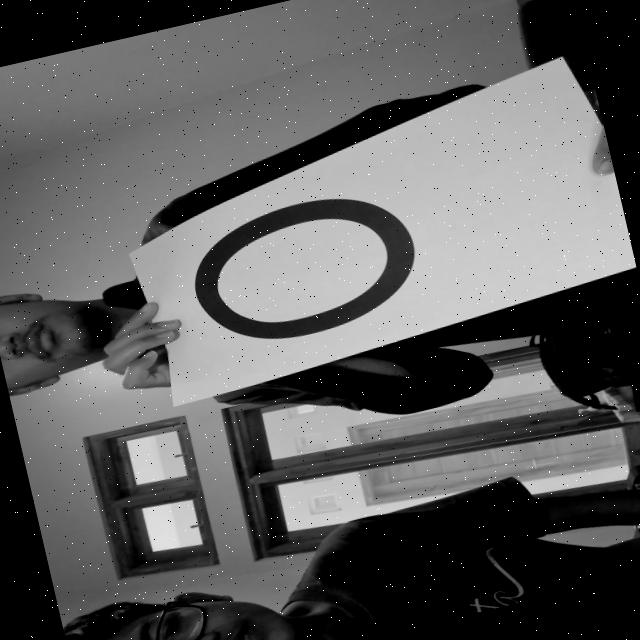o: (150, 158, 446, 380)
